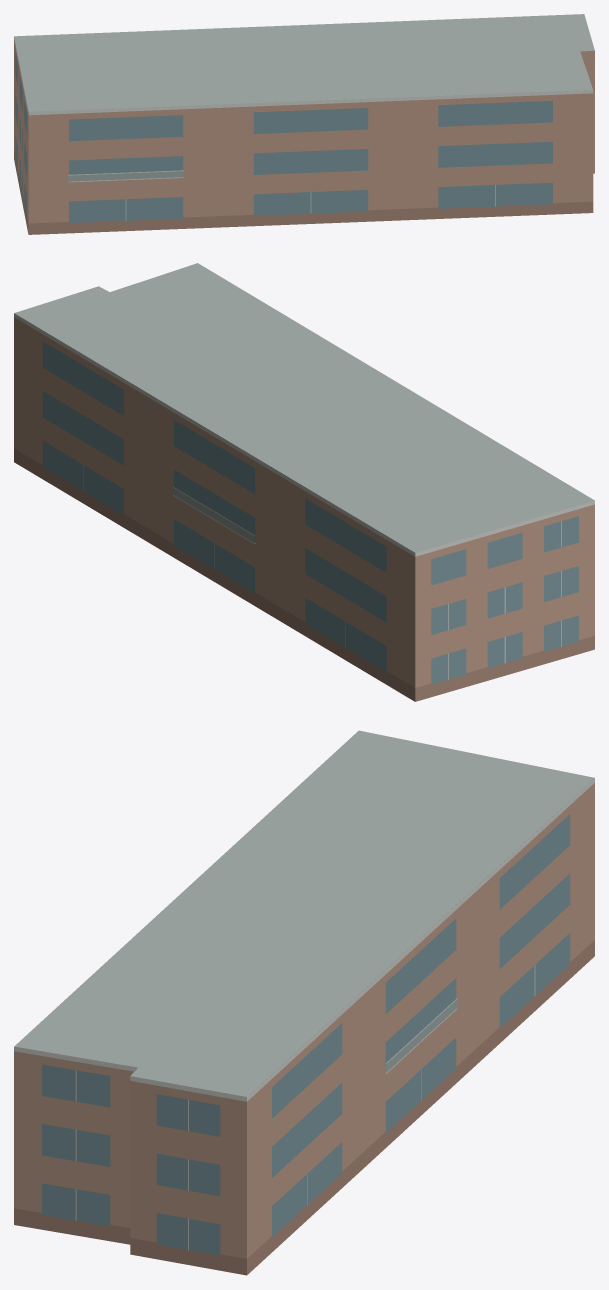
The model's file is survey-upis-32743223.glb.
The picture shows the model from 3 angles, top to bottom: view 1: azimuth 30°, elevation 25°; view 2: azimuth 150°, elevation 25°; view 3: azimuth 270°, elevation 25°; orthographic projection. The views are drawn at different scales.
Visible parts, largest first — view 1: survey-upis-32743223.tmp; view 2: survey-upis-32743223.tmp; view 3: survey-upis-32743223.tmp.
Boxes of the visible parts, left/top/right/bottom form: survey-upis-32743223.tmp: left=14, top=14, right=594, bottom=234; survey-upis-32743223.tmp: left=14, top=263, right=594, bottom=701; survey-upis-32743223.tmp: left=14, top=730, right=594, bottom=1275.
Size of the model in its own units: 40.33 by 9.15 by 27.
